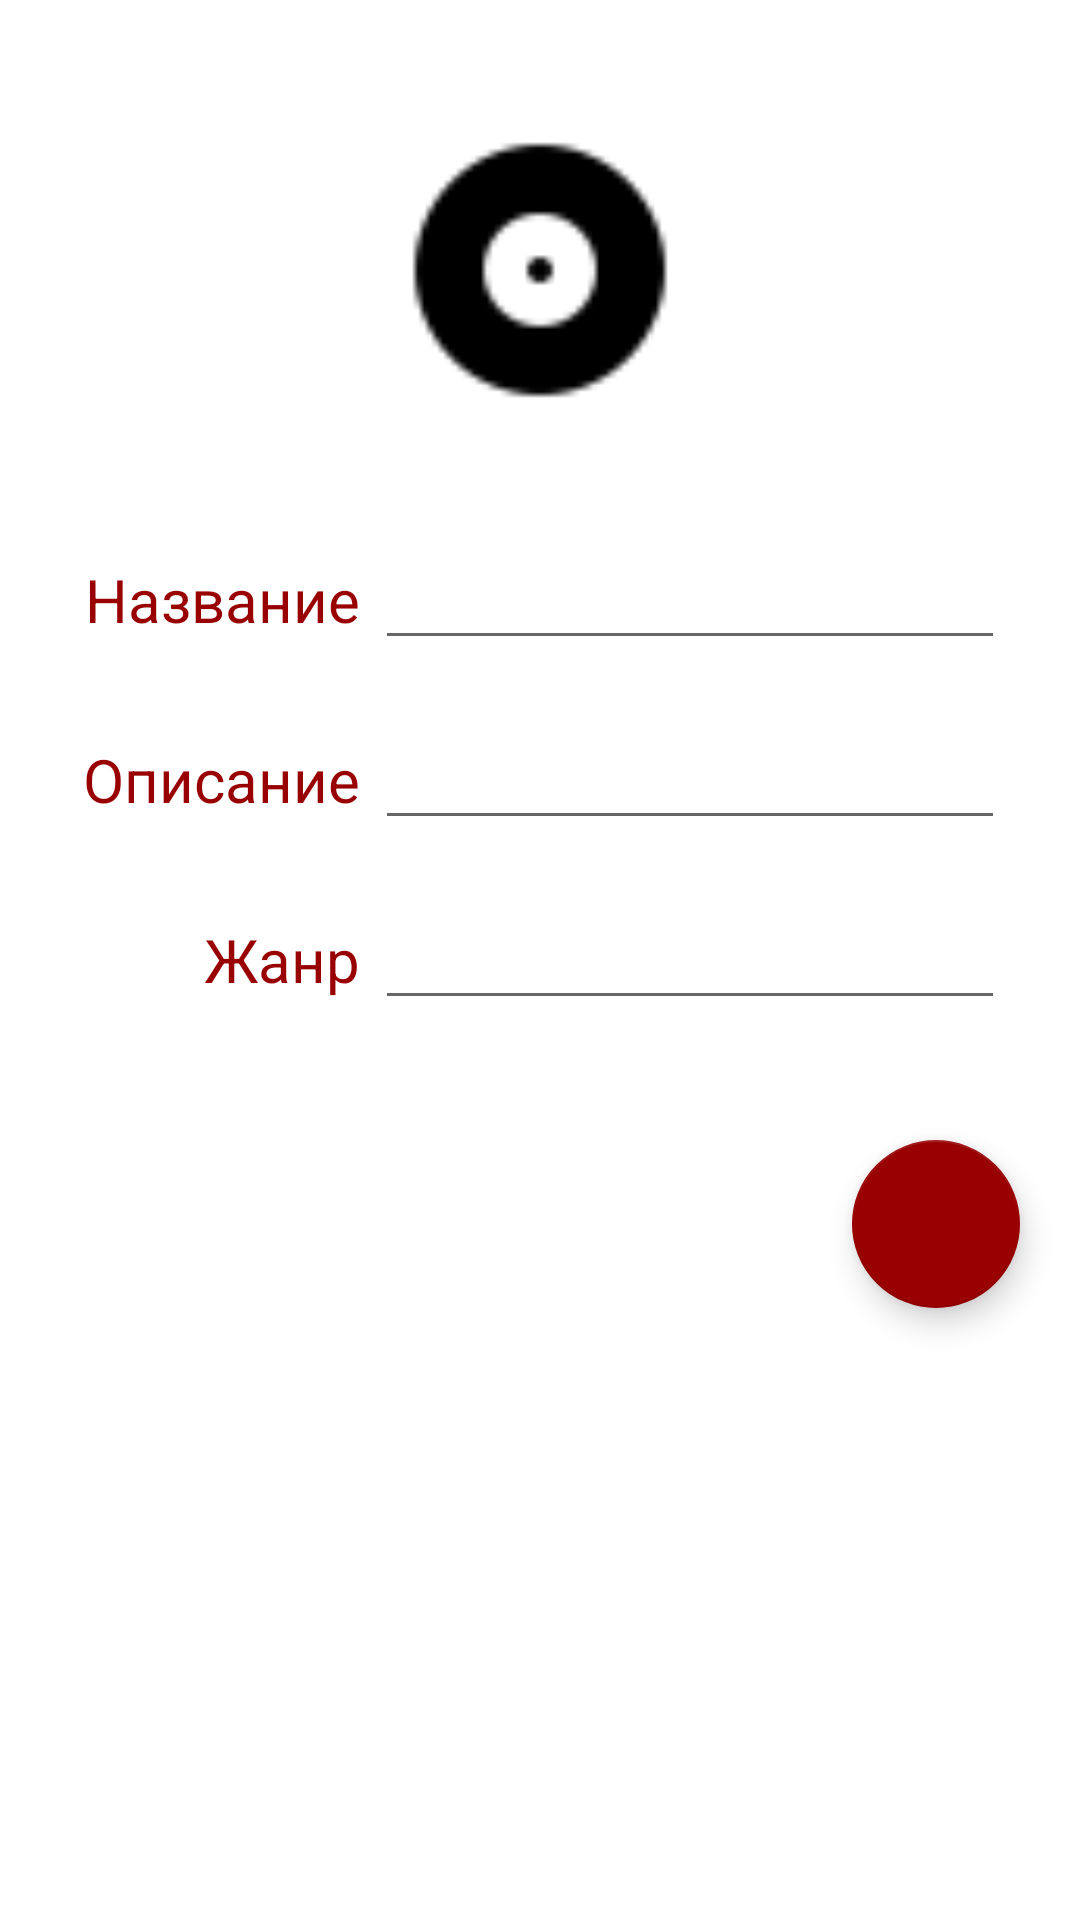

Icons on this 1080px x 1920px Android screen, each with the point to tap as [x,y]:
album: [540,270]
